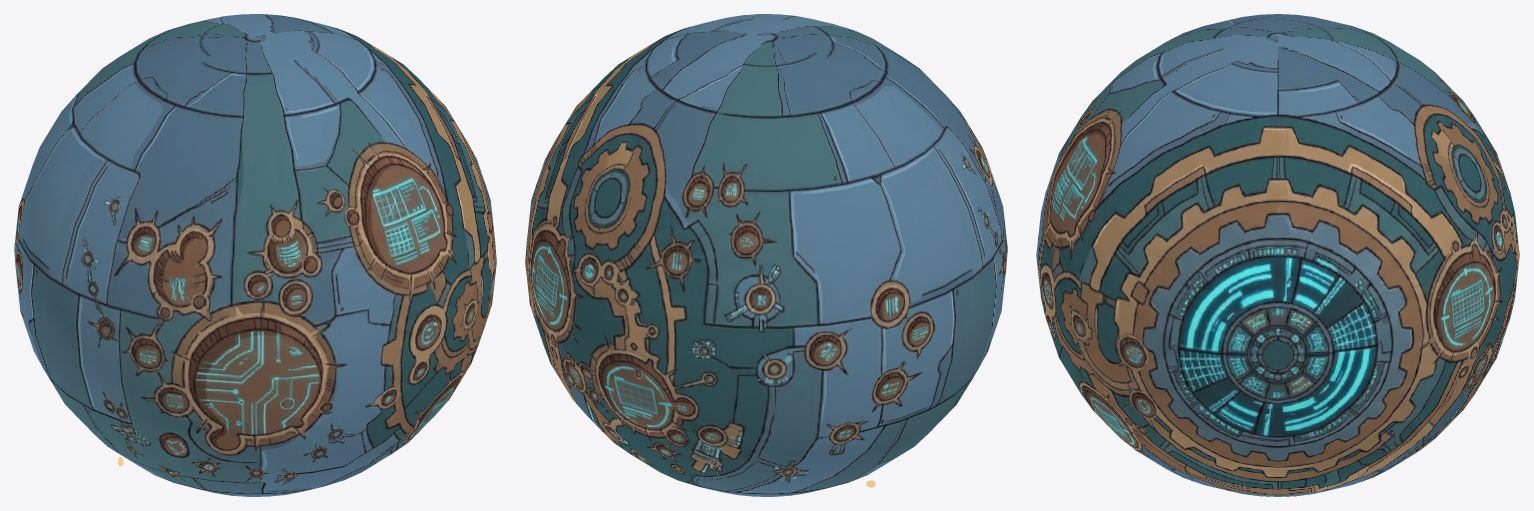
The model's file is Cybertron.glb.
The picture shows the model from 3 angles, left to right: view 1: azimuth 30°, elevation 25°; view 2: azimuth 150°, elevation 25°; view 3: azimuth 270°, elevation 25°; orthographic projection.
Visible parts, largest first — view 1: Mars; view 2: Mars; view 3: Mars.
Part boxes in pixels (box(x1,y1,x2,y2)): Mars: box(14, 14, 496, 496); Mars: box(525, 14, 1007, 496); Mars: box(1036, 14, 1519, 496).
Size of the model in its own units: 2 by 2.01 by 2.
2 materials, 1 textured.
